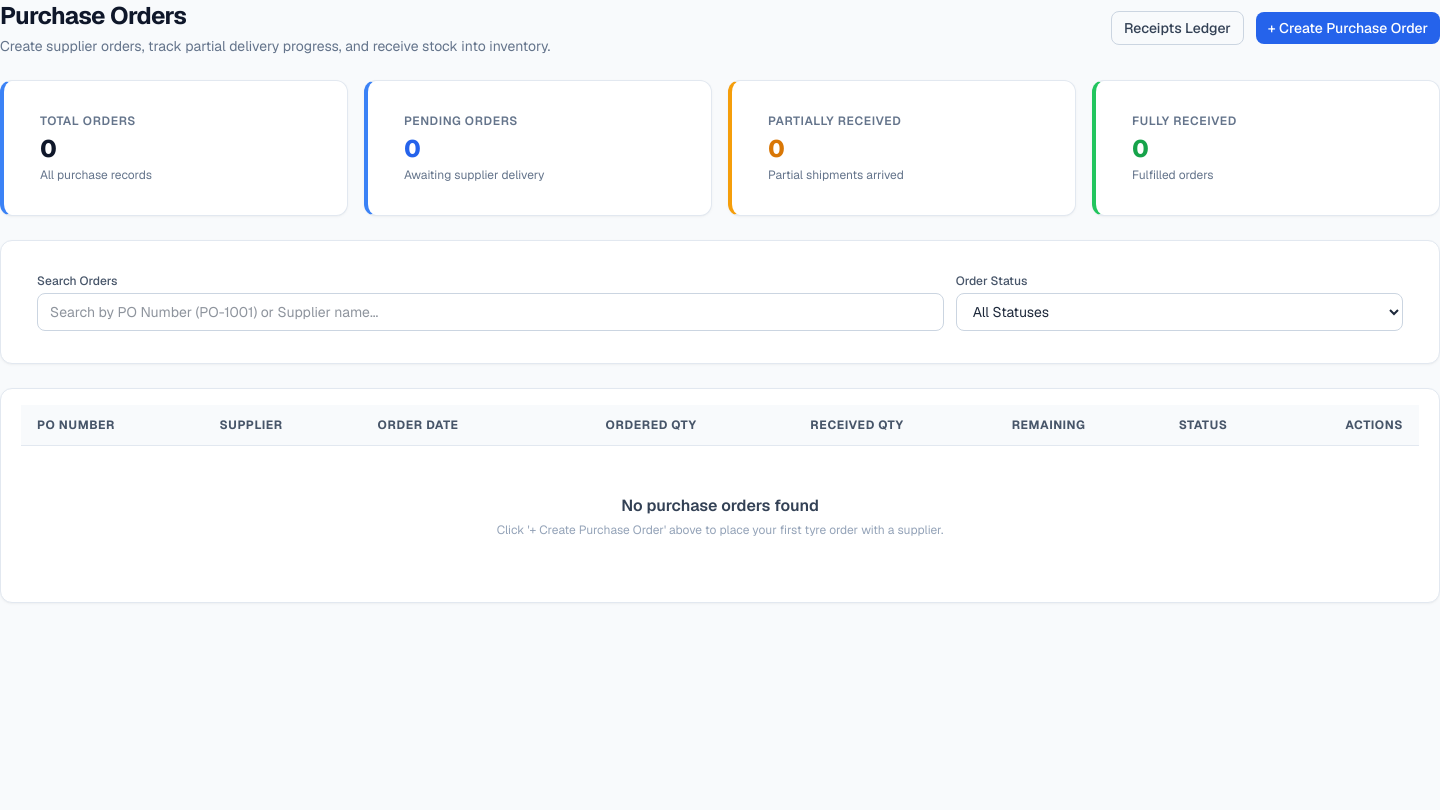
Test case: PurchasesPage UI Component › opens Create Purchase Order modal on button click
The width and height of the screenshot is (1440, 810).
Click the button "+ Create Purchase Order": (1348, 28) [1256,12,1439,44]
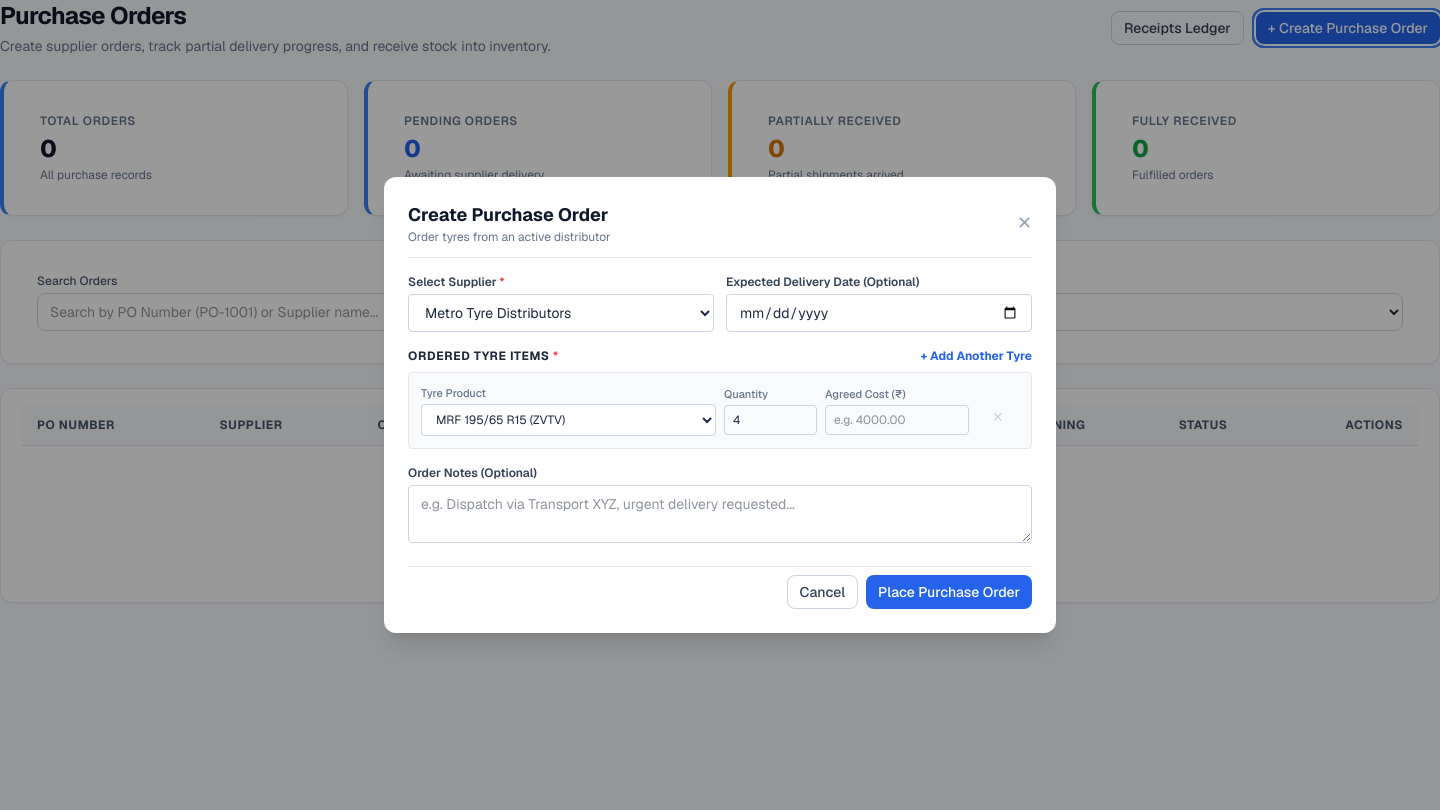
Expected: the heading "Create Purchase Order" is shown, [408,201,611,229]
Expected: the text "Select Supplier *" is shown, [408,274,504,290]
